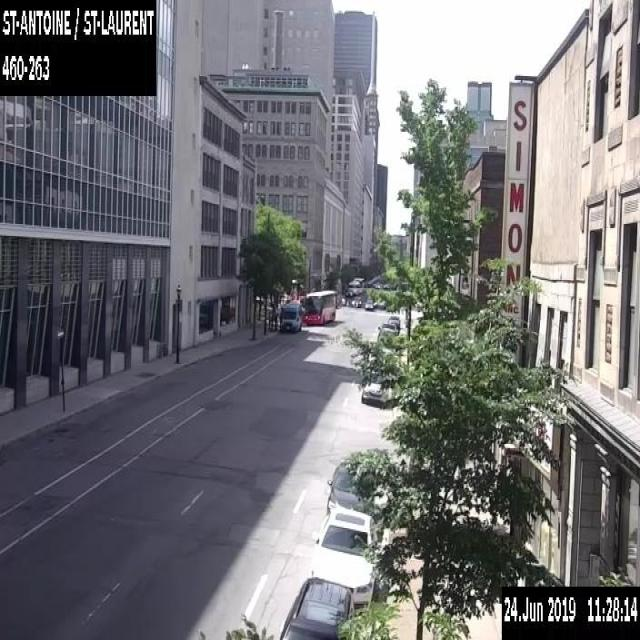bus: (305, 289, 335, 325), (279, 302, 302, 332)
pedestrian: (273, 311, 278, 330)
vehicle: (306, 506, 378, 608), (277, 576, 355, 638), (325, 461, 374, 514), (361, 382, 386, 407), (377, 323, 399, 339), (387, 314, 400, 326), (352, 296, 361, 305), (364, 299, 372, 308)
